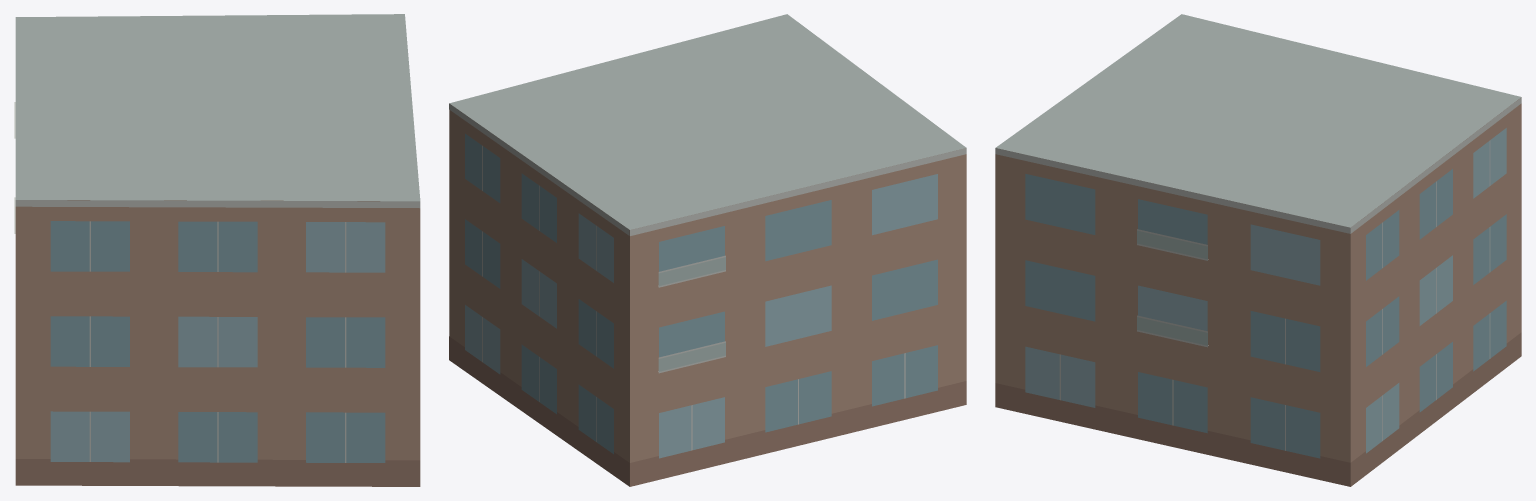
The model's file is survey-upis-32763677.glb.
The picture shows the model from 3 angles, left to right: view 1: azimuth 30°, elevation 25°; view 2: azimuth 150°, elevation 25°; view 3: azimuth 270°, elevation 25°; orthographic projection. The views are drawn at different scales.
Parts seen in each view (by area): view 1: survey-upis-32763677.tmp; view 2: survey-upis-32763677.tmp; view 3: survey-upis-32763677.tmp.
Part boxes in pixels (box(x1,y1,x2,y2)): survey-upis-32763677.tmp: box(14, 14, 420, 486); survey-upis-32763677.tmp: box(449, 14, 966, 486); survey-upis-32763677.tmp: box(995, 14, 1521, 486).
Bounding box in the file's own units: 17.86 × 10.1 × 18.59.
